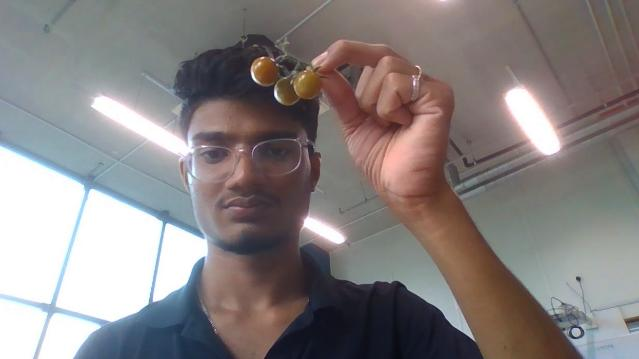Fully Grown: (292, 68, 323, 101), (249, 55, 280, 87), (273, 76, 300, 107)
